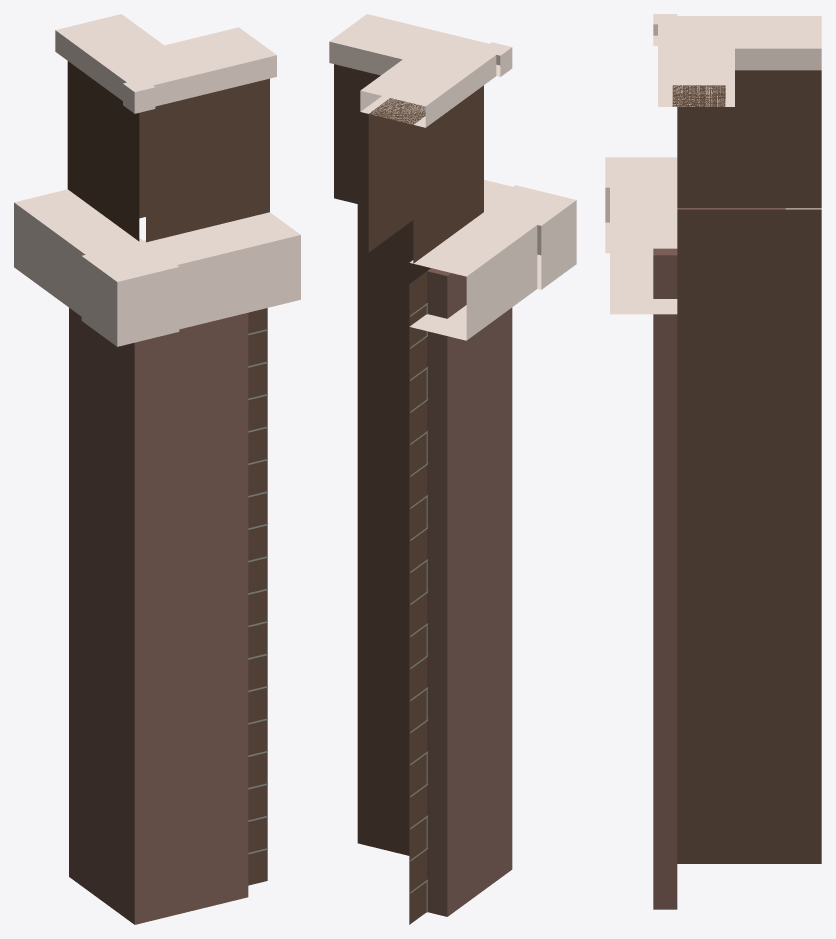
The model's file is top-c1_close.fbx.
3 renders of one model, left to right at view 1: azimuth 30°, elevation 25°; view 2: azimuth 150°, elevation 25°; view 3: azimuth 270°, elevation 25°, orthographic. The views are drawn at different scales.
Visible parts, largest first — view 1: a2001/800/top-c1_close; view 2: a2001/800/top-c1_close; view 3: a2001/800/top-c1_close.
Part boxes in pixels (<box>): a2001/800/top-c1_close: <box>14,14,300,924</box>; a2001/800/top-c1_close: <box>329,14,576,924</box>; a2001/800/top-c1_close: <box>605,14,821,909</box>.
Bounding box in the file's own units: 0.9 × 3.85 × 0.9.
